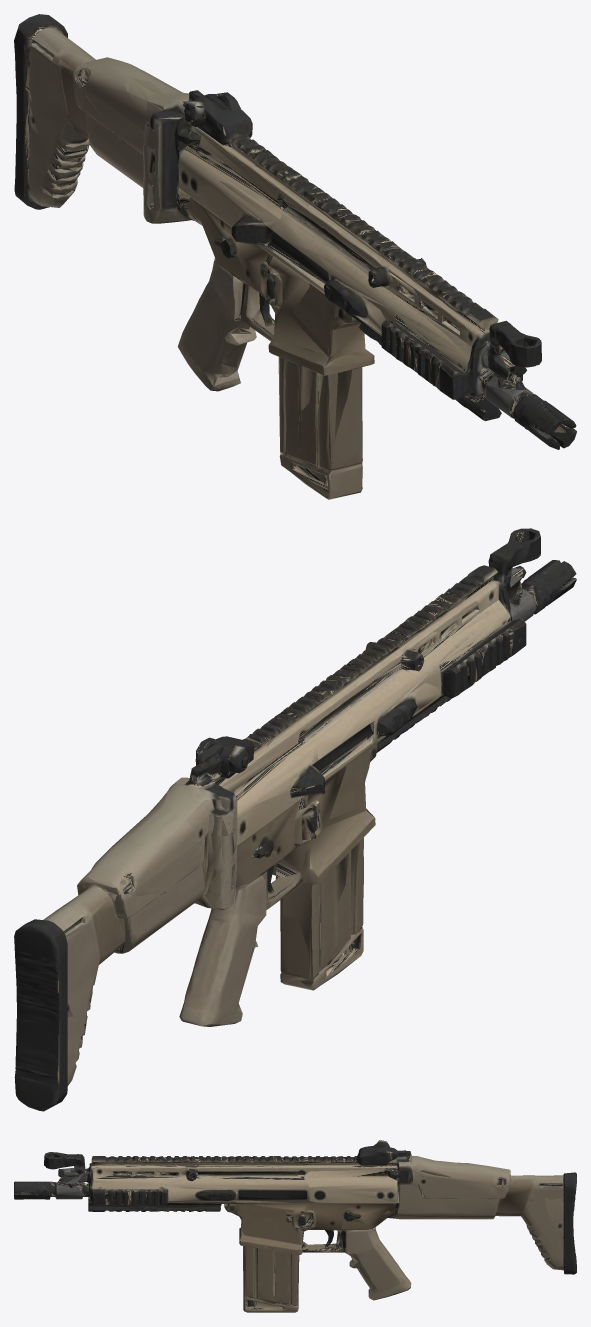
File: scar_modular.glb
The picture shows the model from 3 angles, top to bottom: view 1: azimuth 30°, elevation 25°; view 2: azimuth 150°, elevation 25°; view 3: azimuth 270°, elevation 25°; orthographic projection. The views are drawn at different scales.
Parts seen in each view (by area): view 1: model, mesh_lod; view 2: model, mesh_lod; view 3: model, mesh_lod.
Part boxes in pixels (box(x1,y1,x2,y2)): model: box(14, 14, 576, 499); mesh_lod: box(15, 18, 571, 498); model: box(14, 528, 576, 1111); mesh_lod: box(15, 530, 573, 1102); model: box(14, 1140, 576, 1312); mesh_lod: box(14, 1140, 574, 1309).
Size of the model in its own units: 0.0845 by 0.3067 by 0.96.
Materials: 1 (1 with a texture image).
